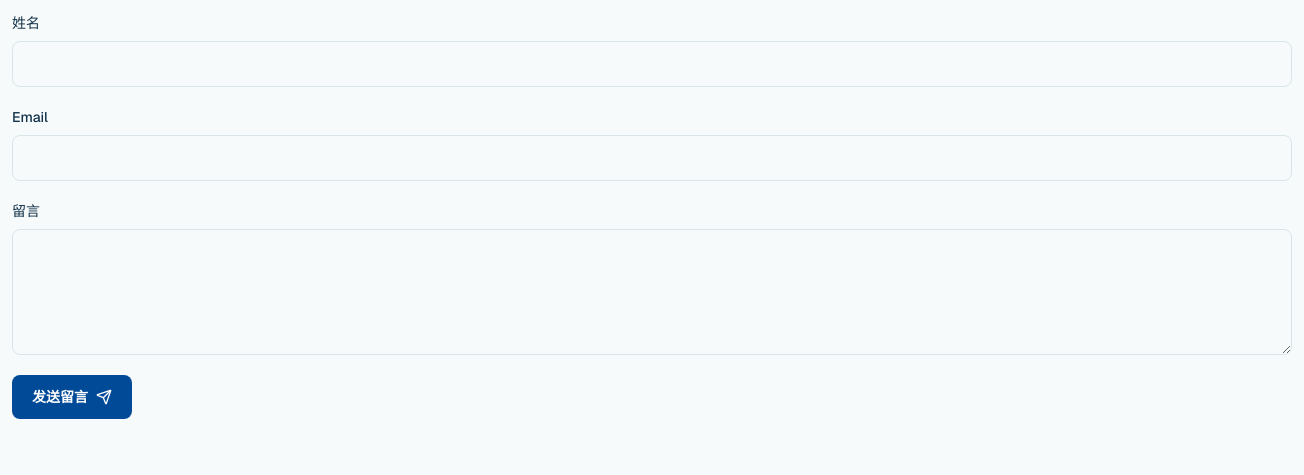
Test case: ContactForm › shows success after the submission succeeds
Type "测试用户" into the field labelled "姓名". click: (652, 64)
box: [12,41,1292,87]
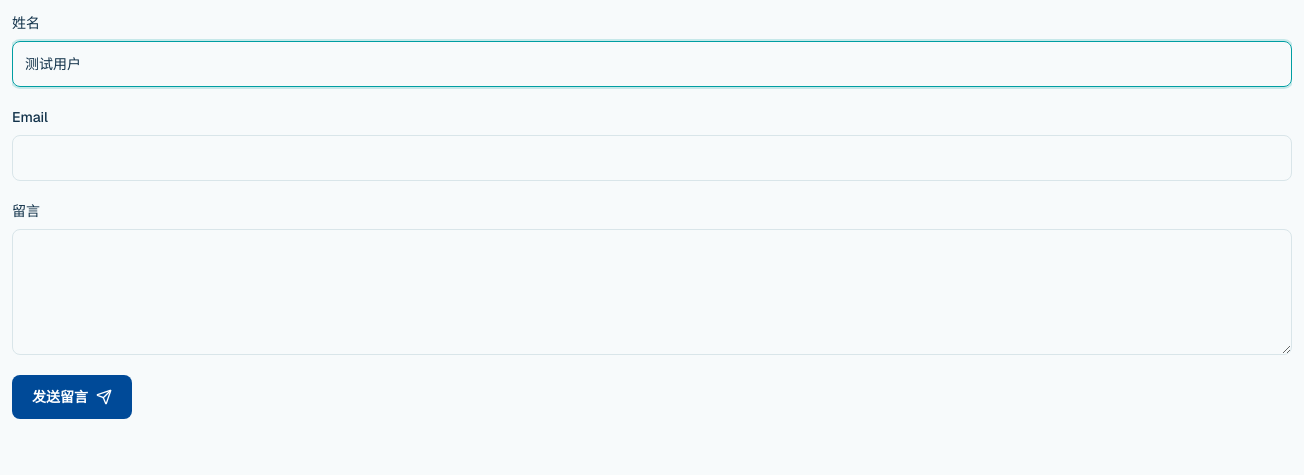
Type "test@example.com" into the field labelled "Email". click: (652, 158)
box: [12,135,1292,181]
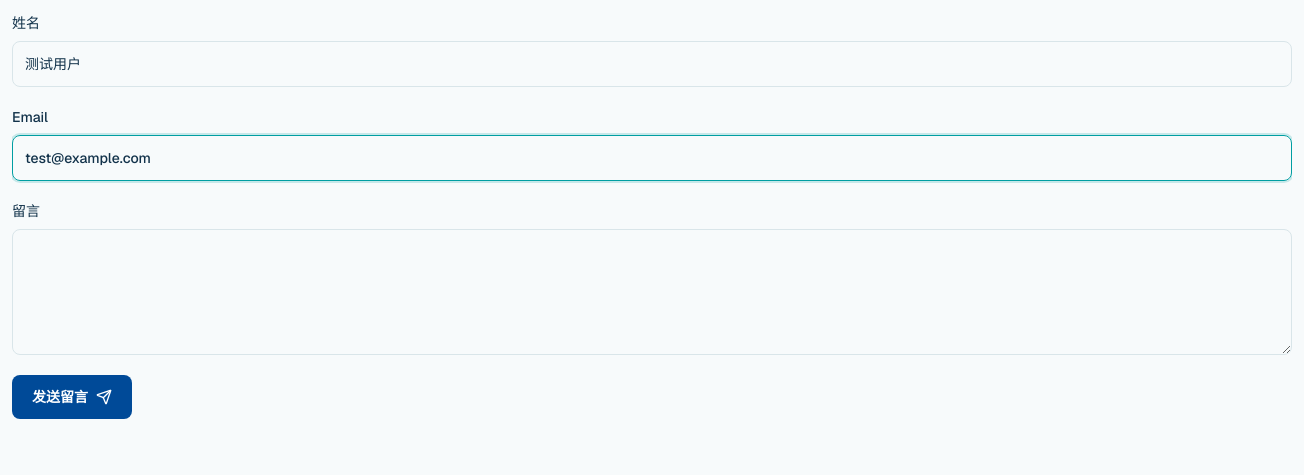
Type "测试留言" into the text box labelled "留言". click: (652, 292)
box: [12,229,1292,355]
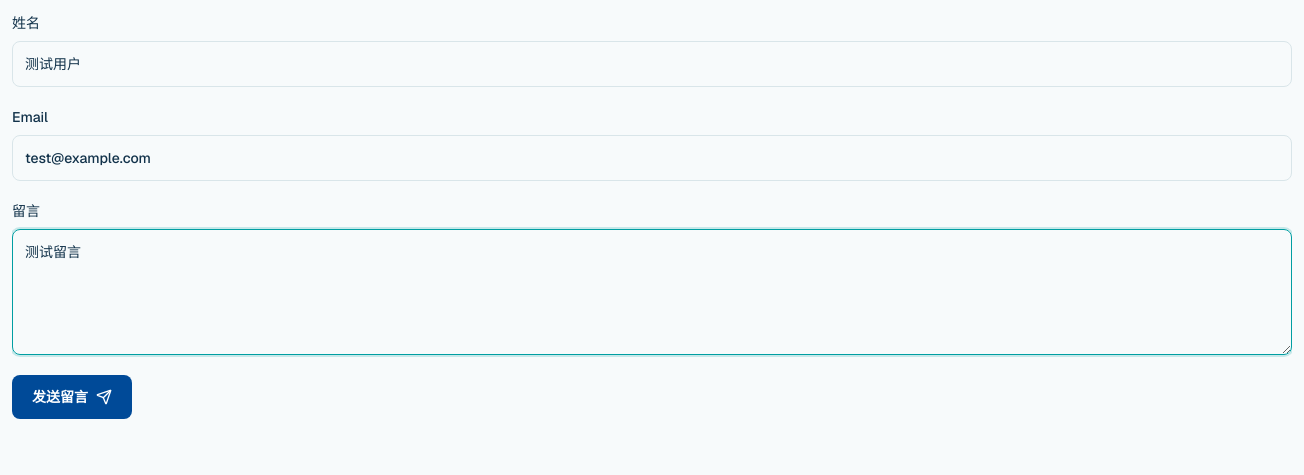
Click the button "发送留言". click: (72, 397)
box: [12,375,132,419]
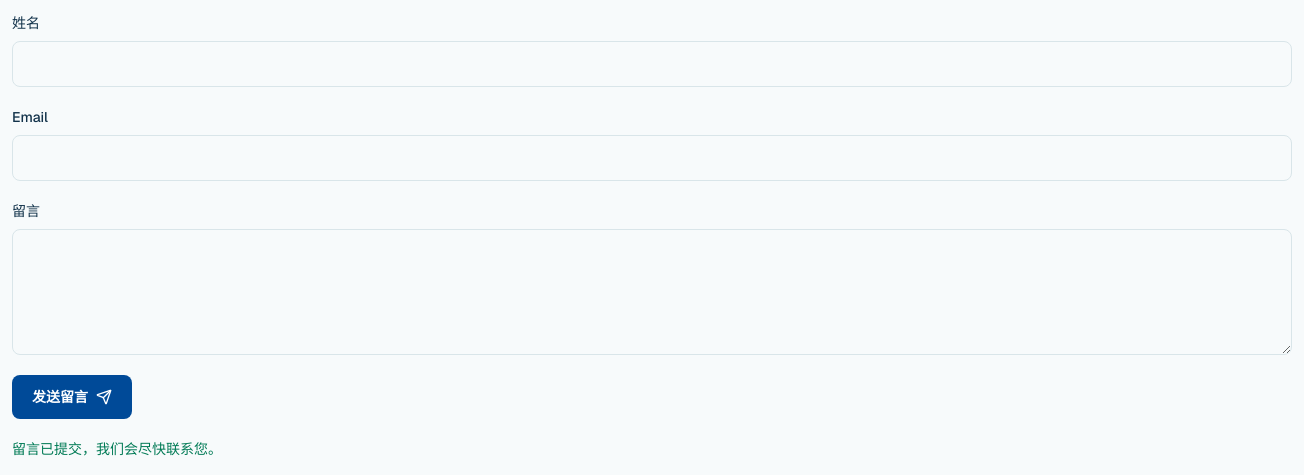
Check: the message shows "留言已提交", box [12,440,222,458]
